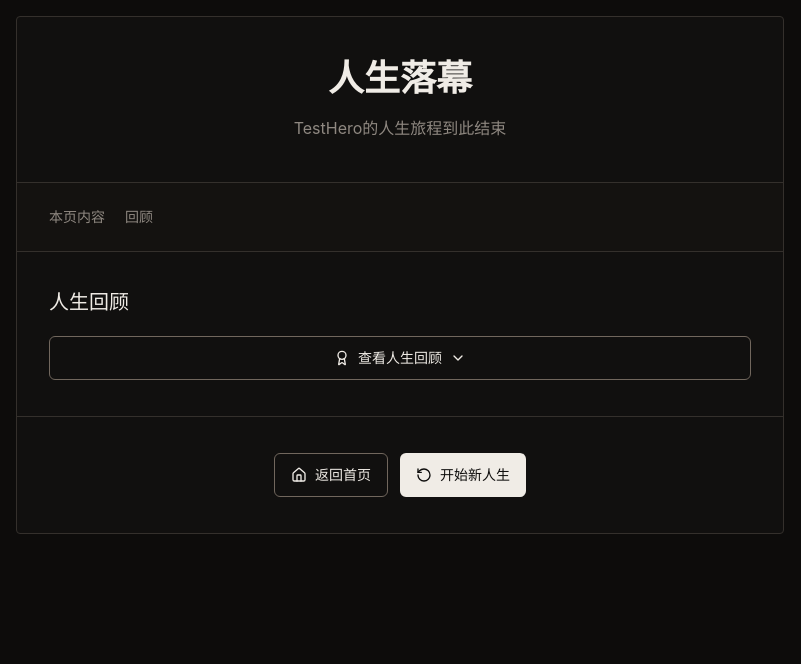
Test: EndingPage › With ending data › normalizes a partial review before the user expands it
Click the button "查看人生回顾" at (400, 358), box [49,336,751,380]
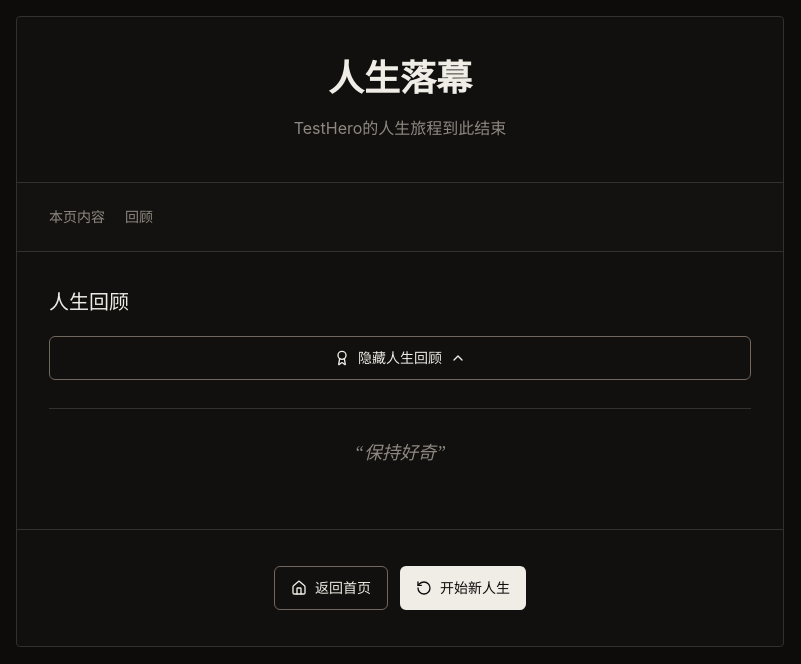
Now the text "“保持好奇”" is shown, box [354,443,446,463]
